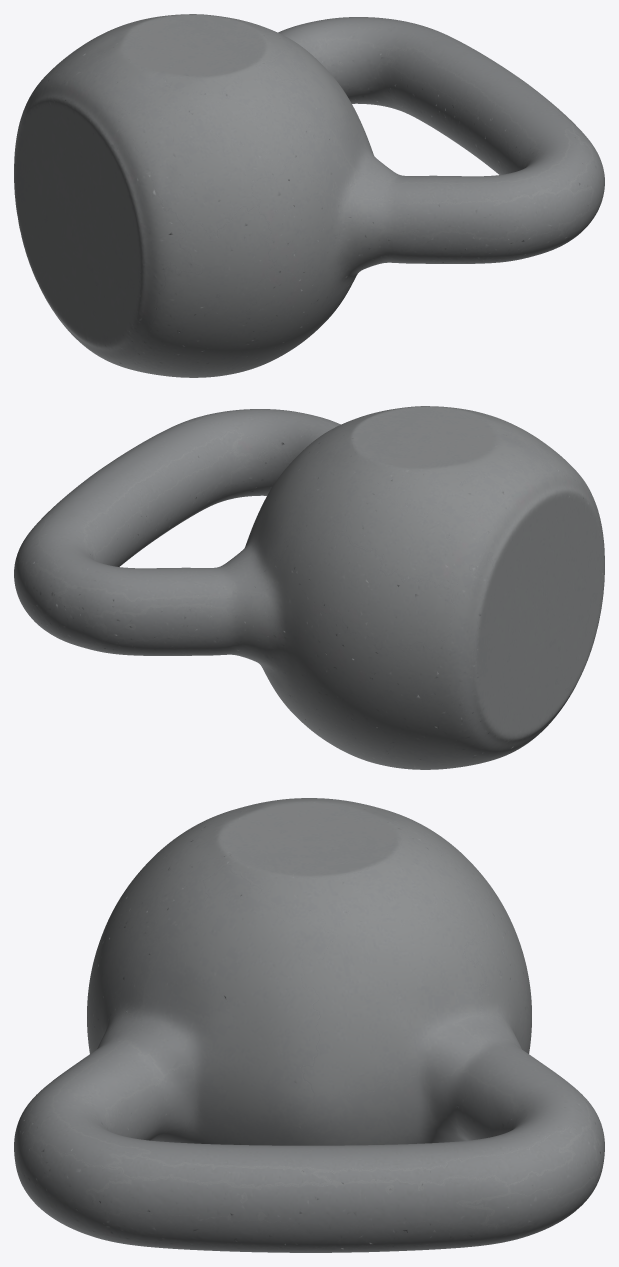
The picture shows the model from 3 angles, top to bottom: view 1: azimuth 30°, elevation 25°; view 2: azimuth 150°, elevation 25°; view 3: azimuth 270°, elevation 25°; orthographic projection. The views are drawn at different scales.
Size of the model in its own units: 1.76 by 1.1 by 1.63.
Materials: 1 (1 with a texture image).
